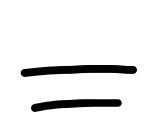eqv: (20, 64, 137, 112)
